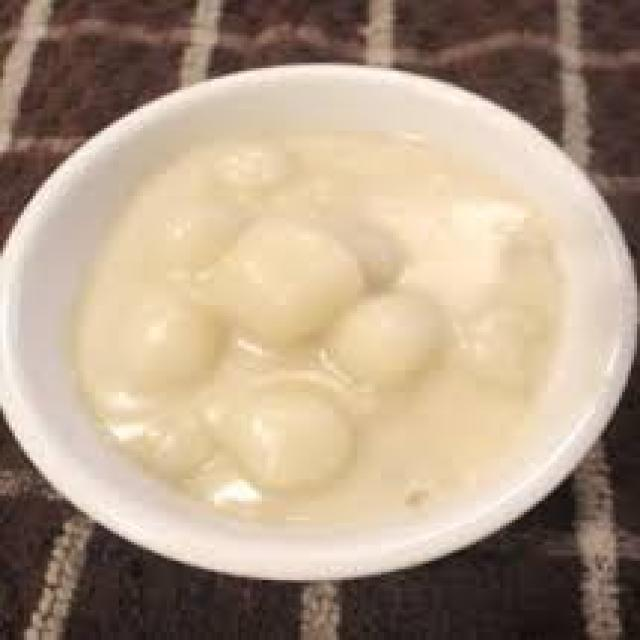paal kolukattai: (62, 92, 606, 552)
